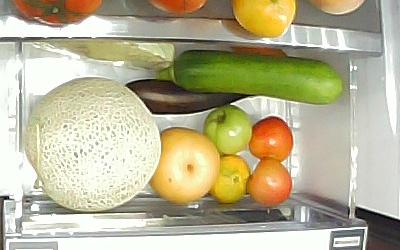cabbage: (42, 39, 175, 72)
eggplant: (125, 79, 255, 115)
melon: (23, 77, 161, 211)
pear: (149, 128, 221, 205)
prune: (249, 116, 294, 164)
tangerine: (209, 155, 249, 205)
tomato: (203, 105, 253, 155), (248, 158, 294, 207)
zucchini: (156, 49, 343, 105)
